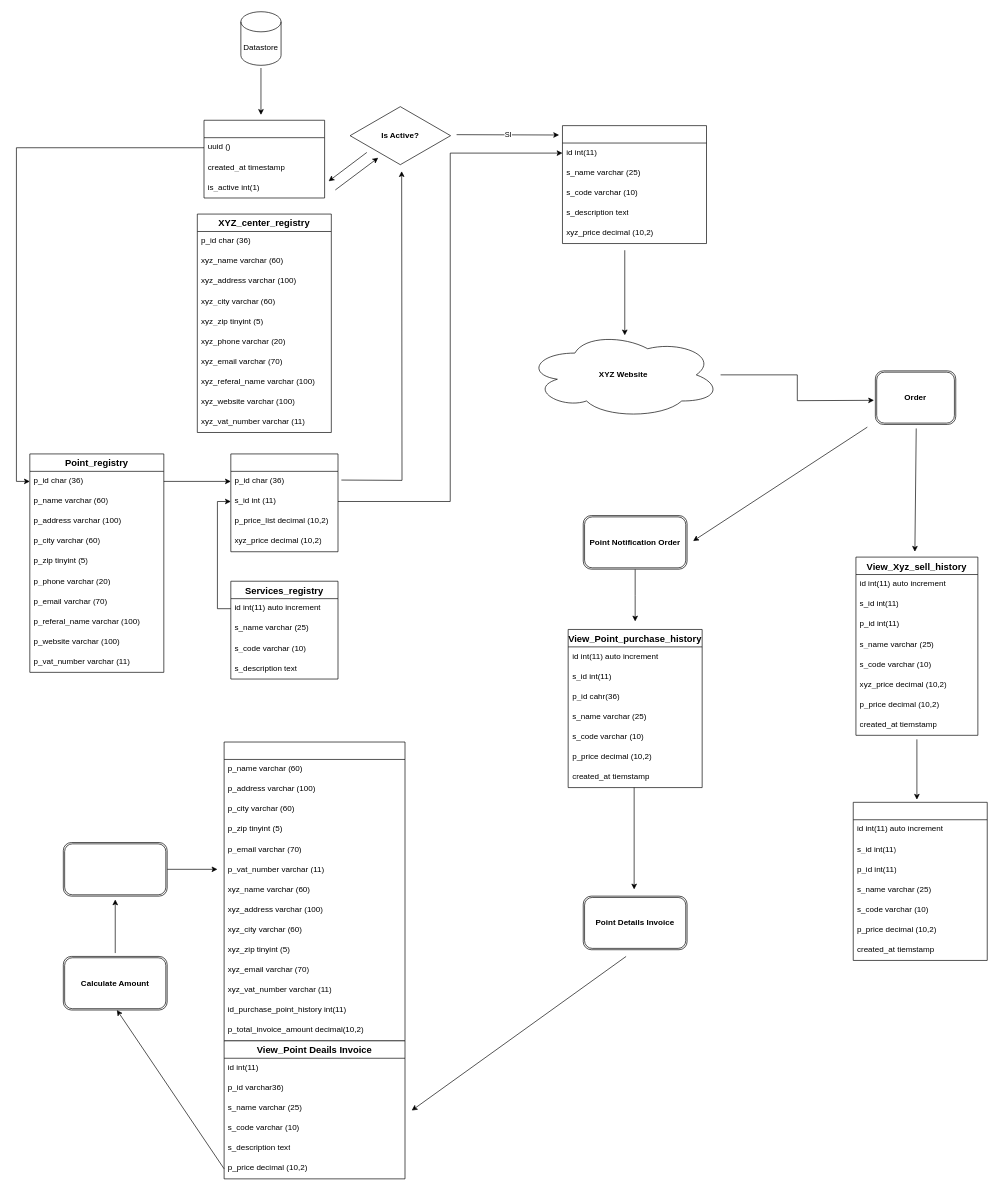
This 999x1193 diagram has some shape labels left out. Each missing label, with the box of its shape:
Point Invoice: (63, 842, 167, 896)
View_Point_invoice: (223, 741, 405, 1041)
View_Web_Services_registry: (562, 125, 707, 244)
View_Xyz_purchase_history: (853, 802, 987, 960)
XYZ_center: (203, 120, 325, 198)
Xyz_price_lists: (230, 453, 338, 552)
